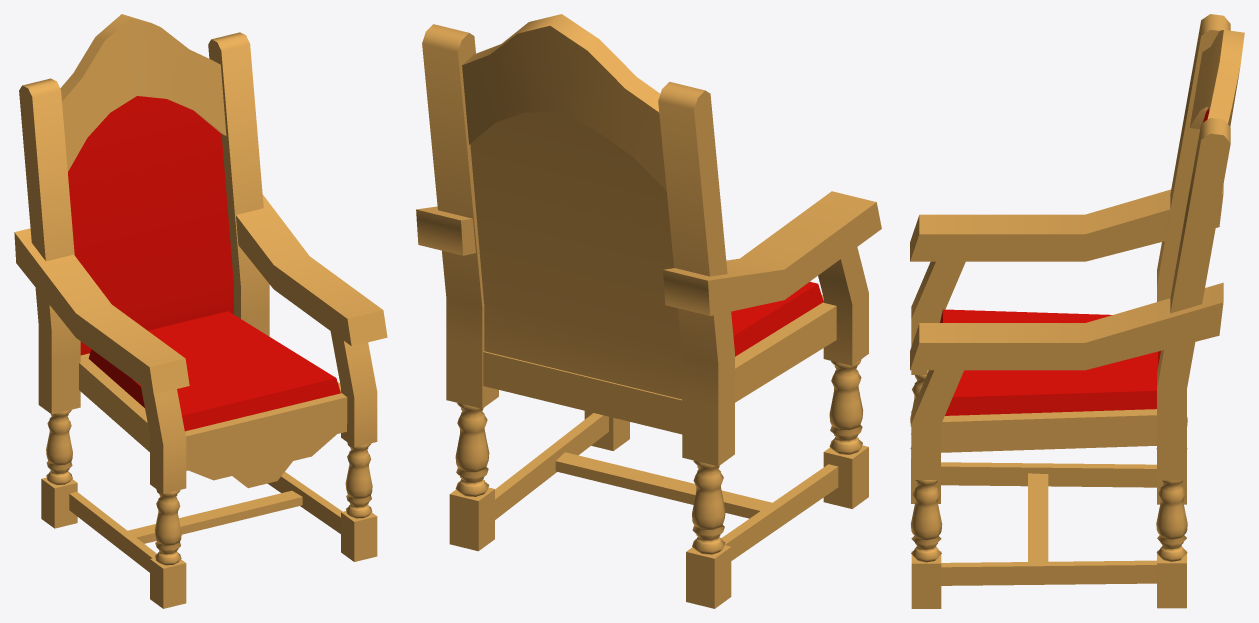
Rendered from throne.fbx.
3 renders of one model, left to right at view 1: azimuth 30°, elevation 25°; view 2: azimuth 150°, elevation 25°; view 3: azimuth 270°, elevation 25°, orthographic. The views are drawn at different scales.
Visible parts, largest first — view 1: Throne; view 2: Throne; view 3: Throne.
Part boxes in pixels (box(x1,y1,x2,y2)): Throne: box(14, 14, 387, 608); Throne: box(416, 14, 881, 608); Throne: box(910, 14, 1244, 608).
Size of the model in its own units: 59.22 by 112 by 65.31.
